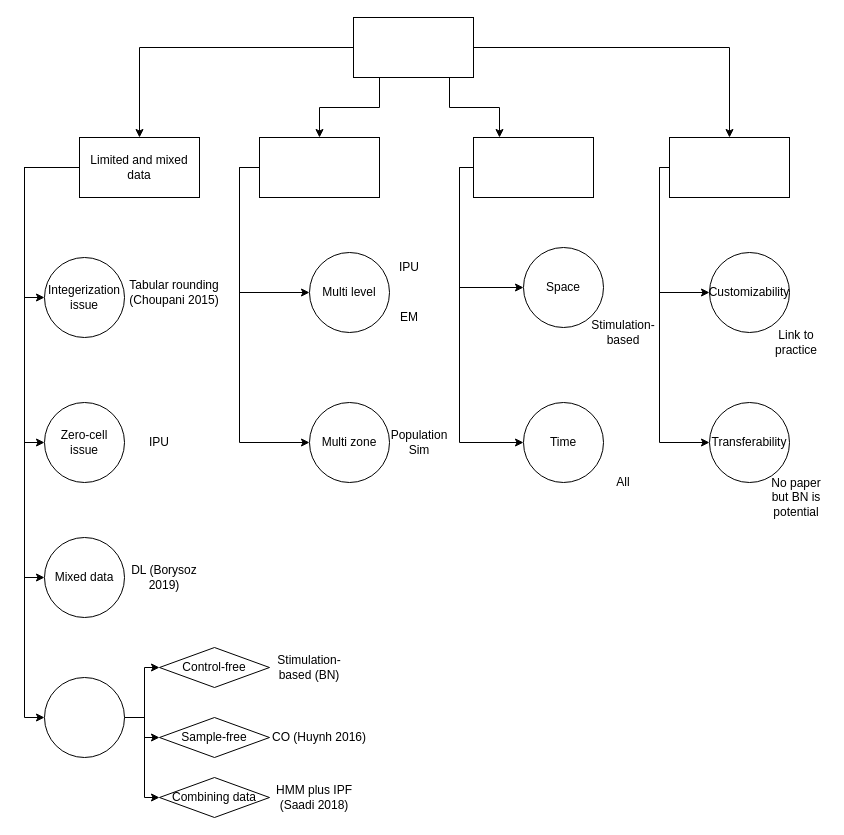
Some shapes in this 844 by 835 pixel diagram are drawn without their labels. Here are the shapes that lost their labels. From the top down, the centre of each, then its label:
At [413,47]: "Population Synthesis".
At [319,167]: "Heterogeneity".
At [533,167]: "Curse of dimensionality".
At [729,167]: "Adaptability".
At [84,717]: "Data flexibility".
